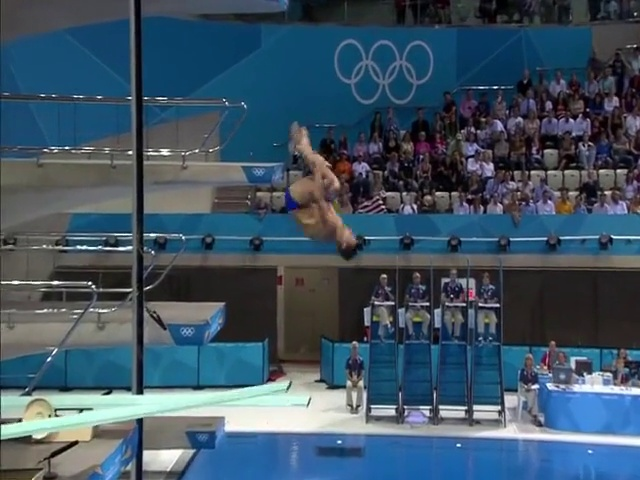diver: (281, 118, 363, 260)
